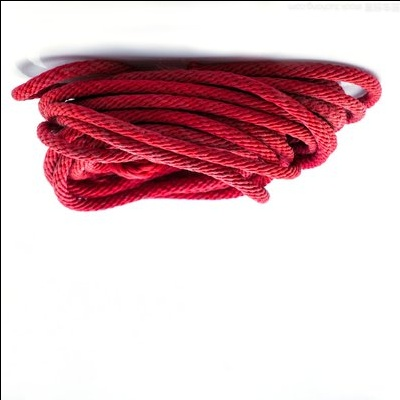9/可回收垃圾/绳子: (12, 59, 383, 212)
